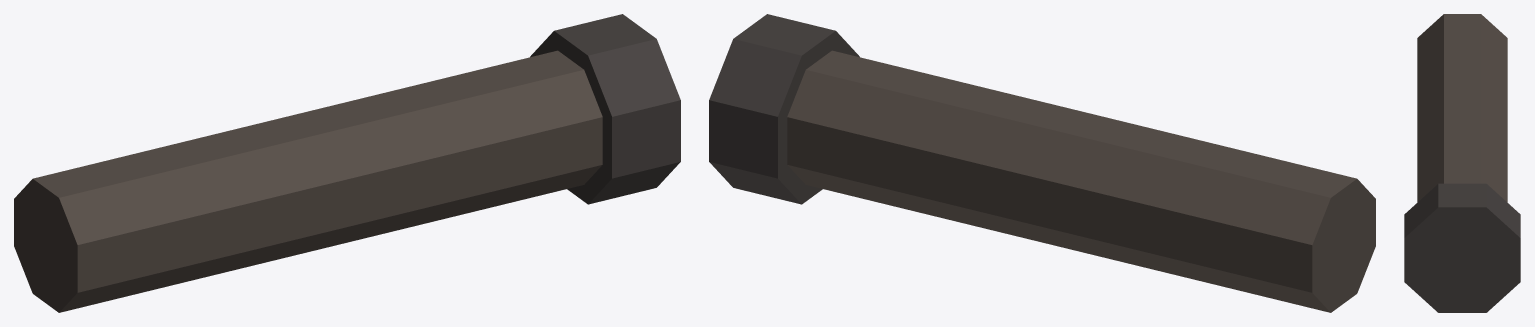
File: SMG5_03_2.fbx
3 views of the same model, side by side, from view 1: azimuth 30°, elevation 25°; view 2: azimuth 150°, elevation 25°; view 3: azimuth 270°, elevation 25° (orthographic). The views are drawn at different scales.
Parts seen in each view (by area): view 1: SMG5_03_2; view 2: SMG5_03_2; view 3: SMG5_03_2.
Part boxes in pixels (x1=…): SMG5_03_2: x1=14, y1=14, x2=680, y2=312; SMG5_03_2: x1=709, y1=14, x2=1375, y2=312; SMG5_03_2: x1=1404, y1=14, x2=1520, y2=312.
Bounding box in the file's own units: 0.3244 × 0.0777 × 0.0777.
